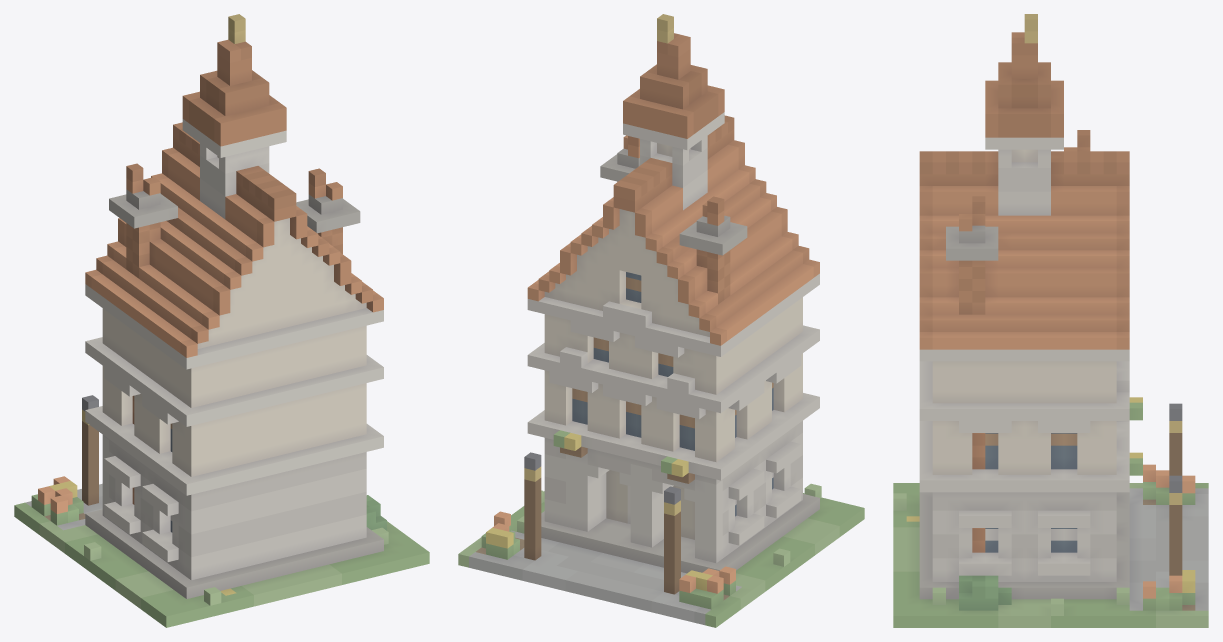
Rendered from house_patricians.v2.glb.
The picture shows the model from 3 angles, left to right: view 1: azimuth 30°, elevation 25°; view 2: azimuth 150°, elevation 25°; view 3: azimuth 270°, elevation 25°; orthographic projection. The views are drawn at different scales.
Visible parts, largest first — view 1: house_patricians; view 2: house_patricians; view 3: house_patricians.
Part boxes in pixels (box(x1,y1,x2,y2)): house_patricians: box(14, 14, 429, 627); house_patricians: box(458, 14, 864, 627); house_patricians: box(893, 14, 1208, 627).
Size of the model in its own units: 3 by 5.75 by 3.
